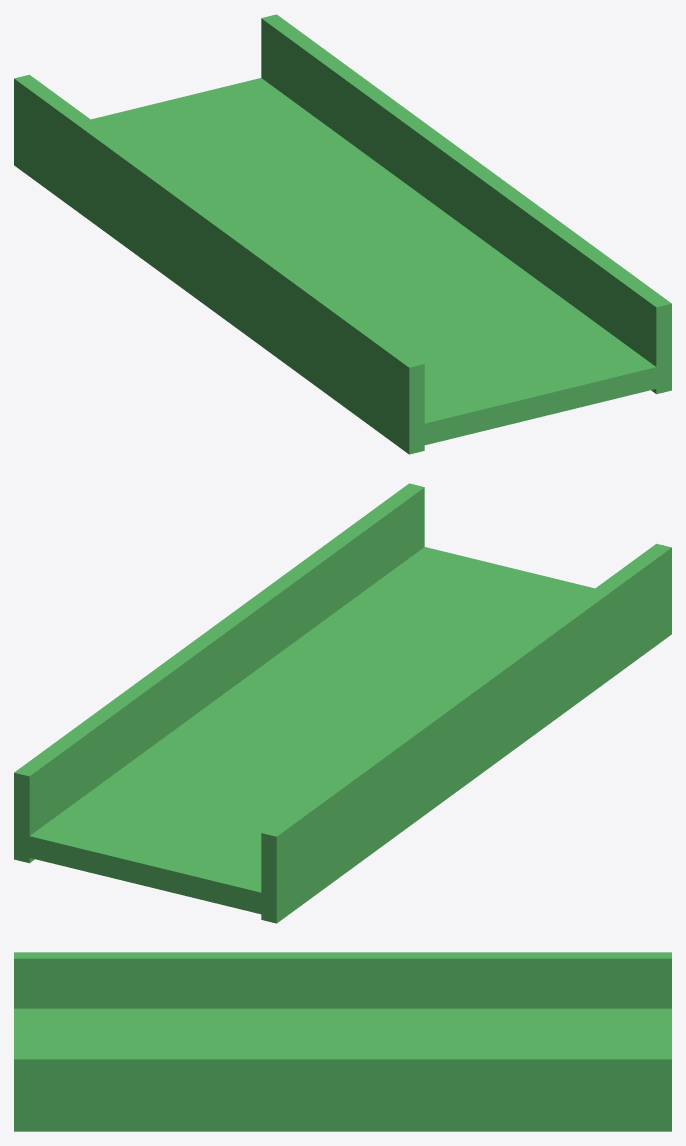
File: bridge_wood_8x3m_collision.glb
The picture shows the model from 3 angles, top to bottom: view 1: azimuth 30°, elevation 25°; view 2: azimuth 150°, elevation 25°; view 3: azimuth 270°, elevation 25°; orthographic projection. The views are drawn at different scales.
Parts seen in each view (by area): view 1: bridge_wood_8x3m_deck-col, bridge_wood_8x3m_left_rail-col, bridge_wood_8x3m_right_rail-col; view 2: bridge_wood_8x3m_deck-col, bridge_wood_8x3m_left_rail-col, bridge_wood_8x3m_right_rail-col; view 3: bridge_wood_8x3m_right_rail-col, bridge_wood_8x3m_left_rail-col, bridge_wood_8x3m_deck-col.
Part boxes in pixels (x1,y1,x2,y2): bridge_wood_8x3m_deck-col: (91,78,663,446); bridge_wood_8x3m_left_rail-col: (14,74,424,454); bridge_wood_8x3m_right_rail-col: (261,14,671,394); bridge_wood_8x3m_deck-col: (22,547,594,915); bridge_wood_8x3m_left_rail-col: (261,543,671,923); bridge_wood_8x3m_right_rail-col: (14,483,424,863); bridge_wood_8x3m_right_rail-col: (14,1053,671,1131); bridge_wood_8x3m_left_rail-col: (14,952,671,1008); bridge_wood_8x3m_deck-col: (14,1008,671,1052).
Size of the model in its own units: 3.04 by 0.96 by 7.92.
